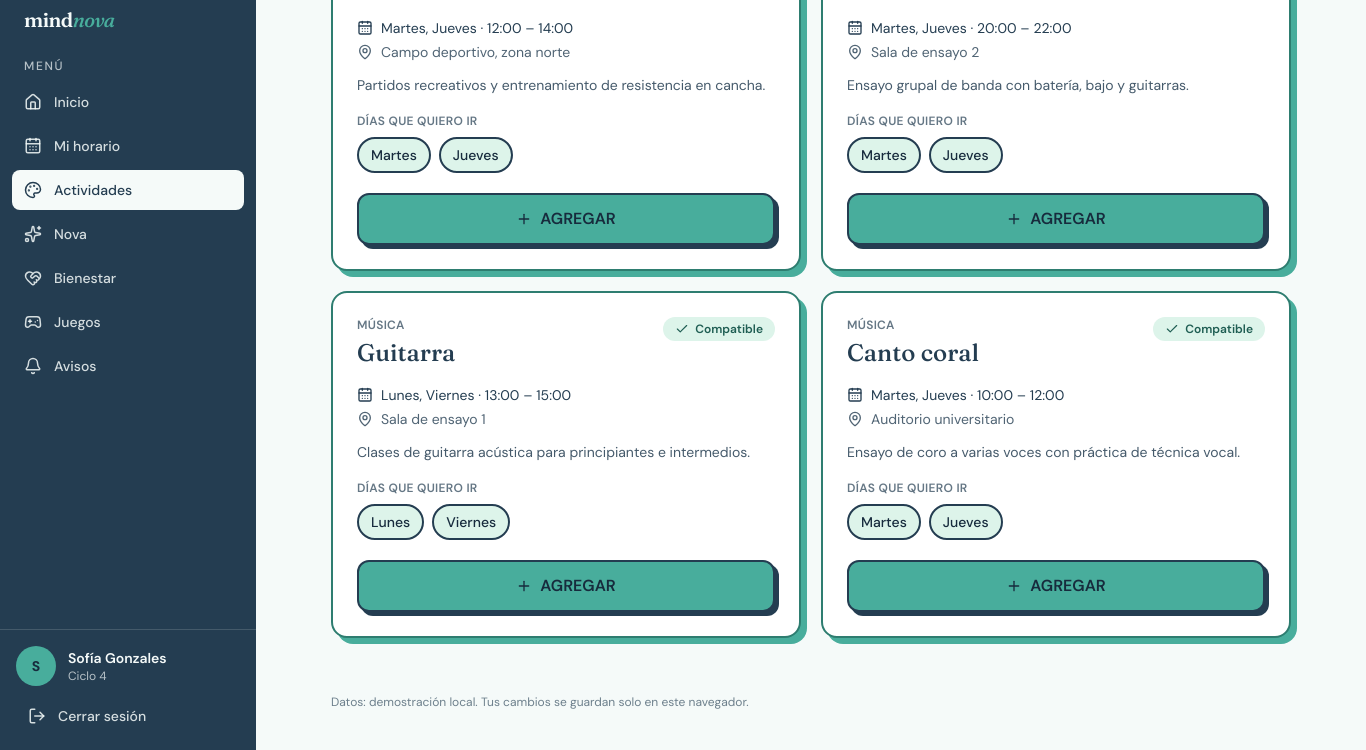
Explorar actividades › quita una actividad agregada del horario y la guarda sin sus copias
(page scrolled)
Click the button "AGREGAR" below "Auditorio universitario" at x=1056, y=586, box x1=847 y1=560 x2=1265 y2=612
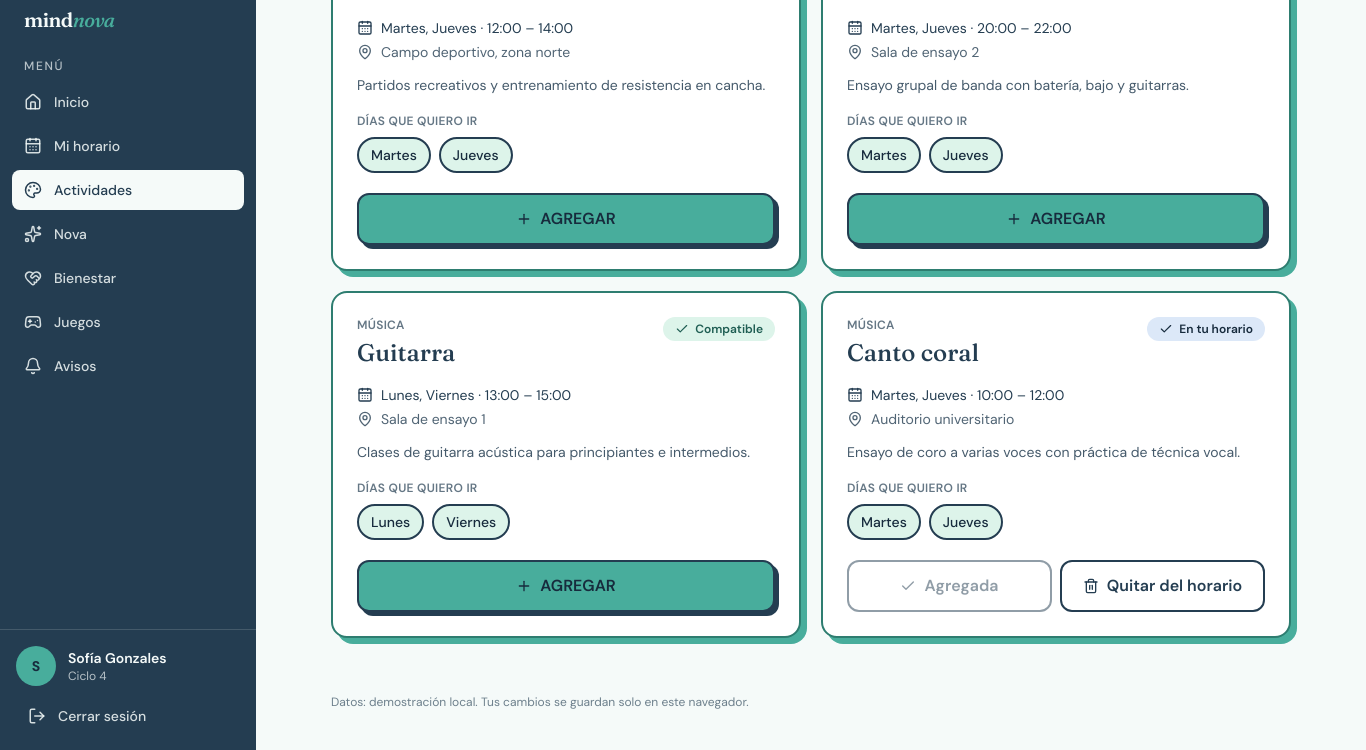
Click the button "Quitar del horario" at x=1162, y=586, box x1=1060 y1=560 x2=1265 y2=612
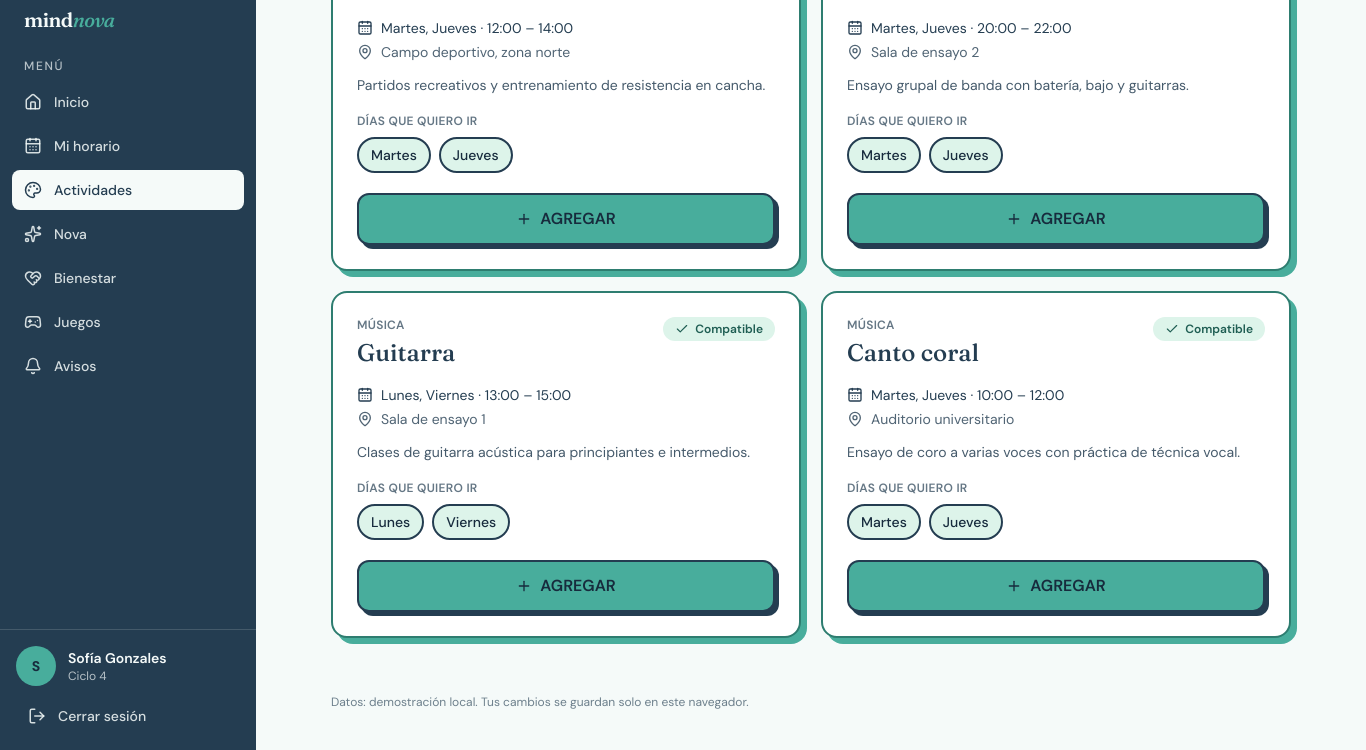
Expected: the button "AGREGAR" below "Auditorio universitario" is enabled, x1=847 y1=560 x2=1265 y2=612
